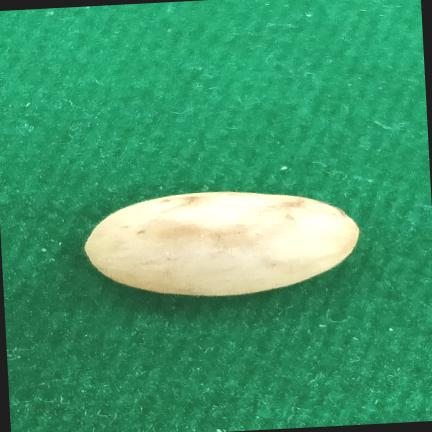parchment: (85, 192, 359, 296)
